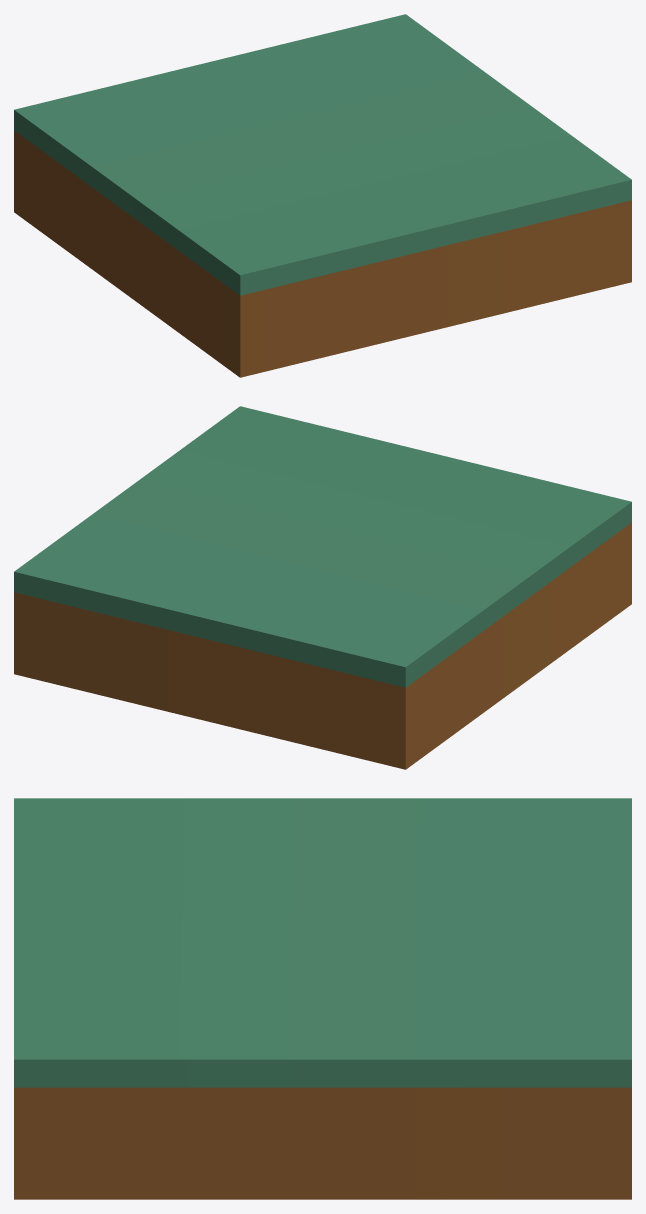
File: Ground_Green_01.fbx
The picture shows the model from 3 angles, top to bottom: view 1: azimuth 30°, elevation 25°; view 2: azimuth 150°, elevation 25°; view 3: azimuth 270°, elevation 25°; orthographic projection. The views are drawn at different scales.
Visible parts, largest first — view 1: Ground_Green_01; view 2: Ground_Green_01; view 3: Ground_Green_01.
Boxes of the visible parts, box(x1,y1,x2,y2) form: Ground_Green_01: box(14, 14, 631, 377); Ground_Green_01: box(14, 406, 631, 769); Ground_Green_01: box(14, 798, 631, 1199).
Size of the model in its own units: 40 by 10 by 40.
